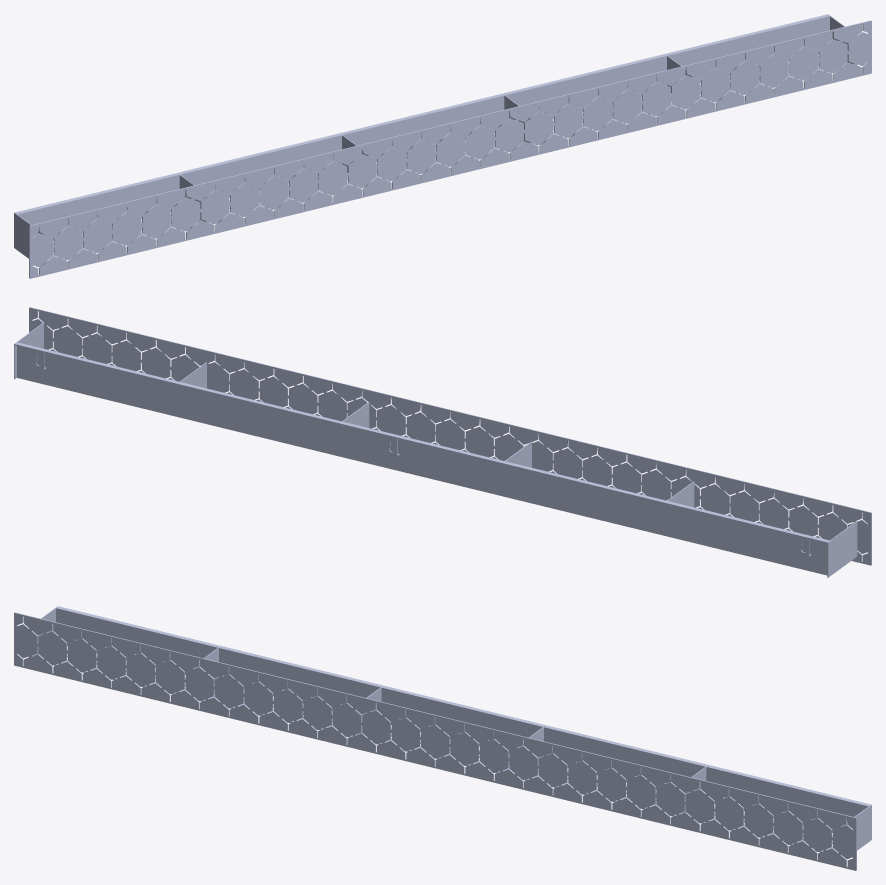
The model's file is bee-mono.6bf28557b6.glb.
3 renders of one model, top to bottom at view 1: azimuth 30°, elevation 25°; view 2: azimuth 150°, elevation 25°; view 3: azimuth 330°, elevation 25°, orthographic.
Parts seen in each view (by area): view 1: NAUO1; view 2: NAUO1; view 3: NAUO1.
Part boxes in pixels (box(x1,y1,x2,y2)): NAUO1: box(14, 14, 871, 278); NAUO1: box(14, 307, 871, 577); NAUO1: box(14, 606, 871, 870).
Bounding box in the file's own units: 1.5 × 0.0899 × 0.0919.
